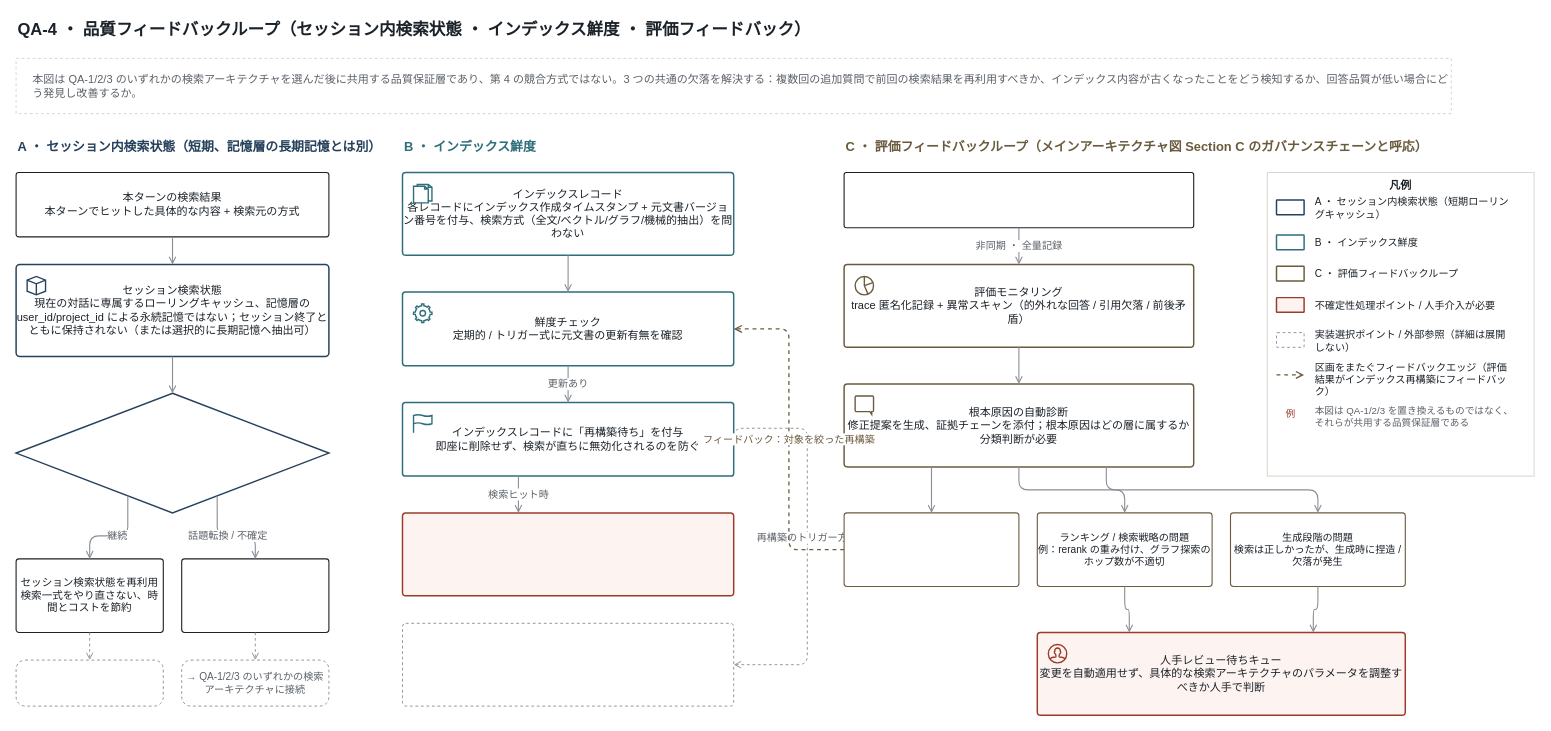
Some shapes in this 1551 by 731 pixel diagram are drawn without their labels. Each missing label, with the centre of its shape:
→ 直接回答を生成: point 89,682
「再構築待ち」の内容にヒットした場合 検索が「再構築待ち」マーク付きの内容にヒットした際、回答に「この内容は古い可能性があるため確認を推奨」という注意書きを付加: point 567,554
各ターンの質問応答完了: point 1018,199
実装選択 ・ 二者択一 再構築のタイミング：定期一括再構築 / 遅延再構築（ヒット時にのみトリガー）——具体的なプロジェクトで決定が必要: point 568,664
新規検索をトリガー 選定した検索アーキテクチャへ: point 255,595
検索 / インデックス品質の問題 関連内容を正しく見つけられなかった: point 931,549
次のターンの追加質問 ・ 話題は継続しているか？ （例：同一エンティティ/文書への追加質問）: point 172,452
